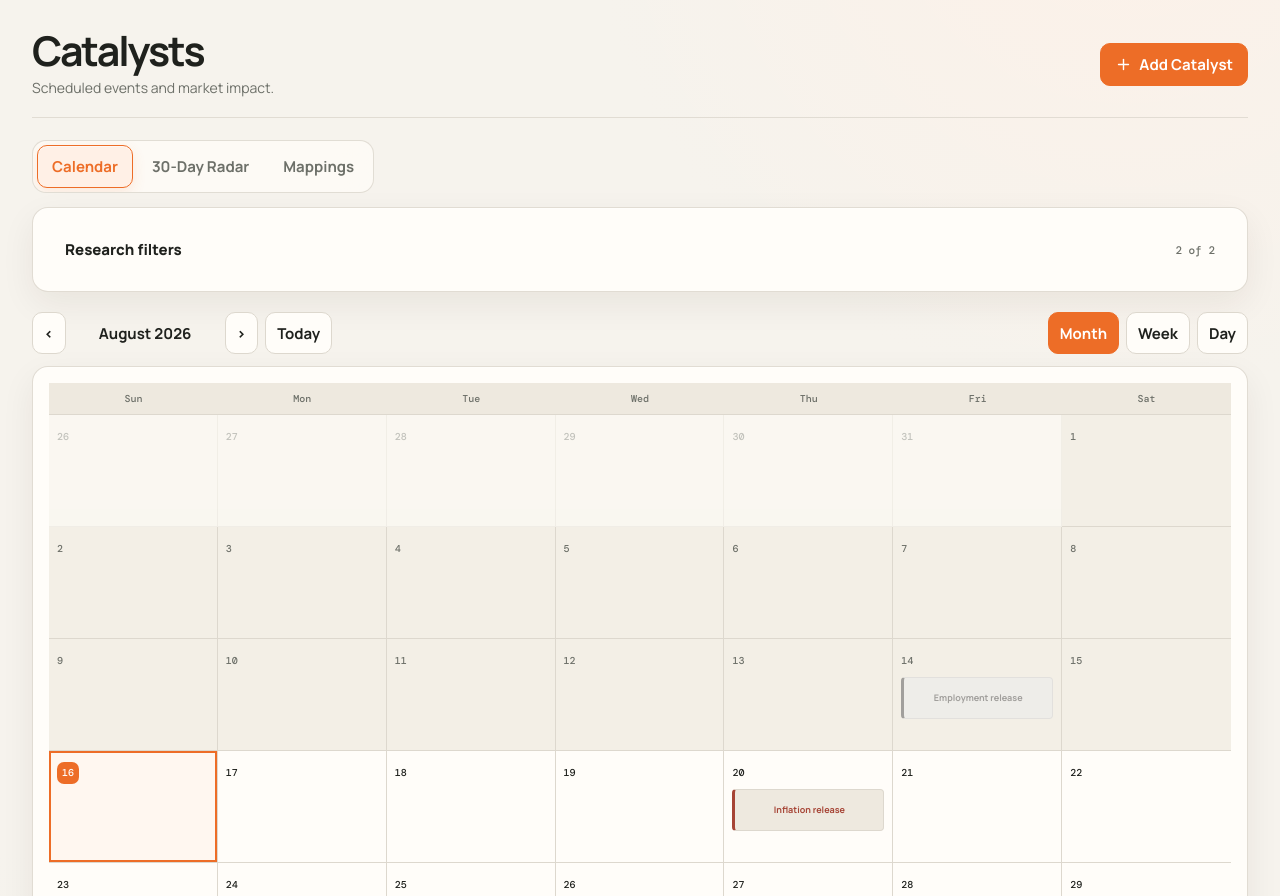
Test: production and Tutorial UI reuse › renders the same Catalyst editor layer in the production page and Guided stage
Click the button "Add Catalyst": (1174, 64) [1100,43,1248,86]
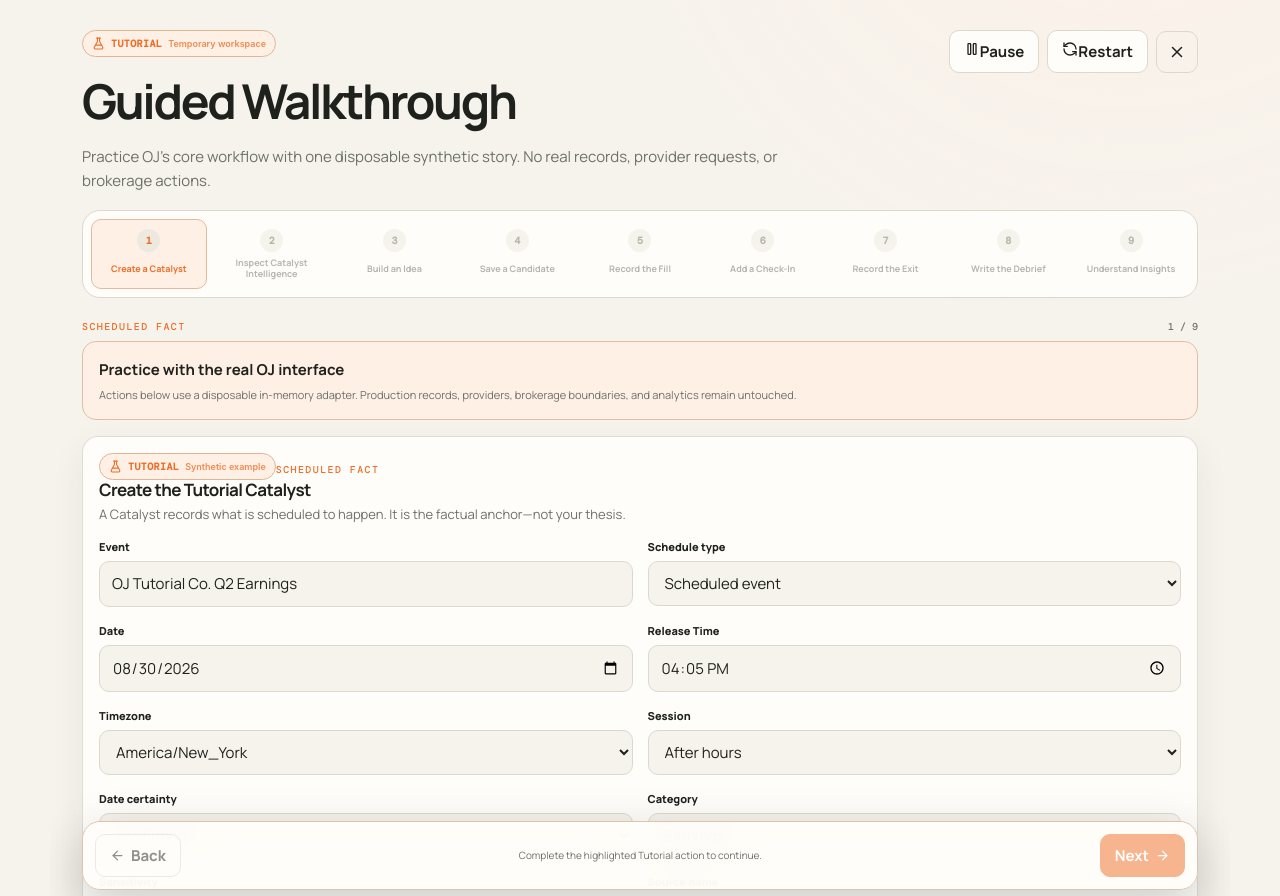
Expected: the text "Schedule type" is shown, [648,539,726,554]
Expected: the field labelled "Event" is shown, [99,561,632,607]
